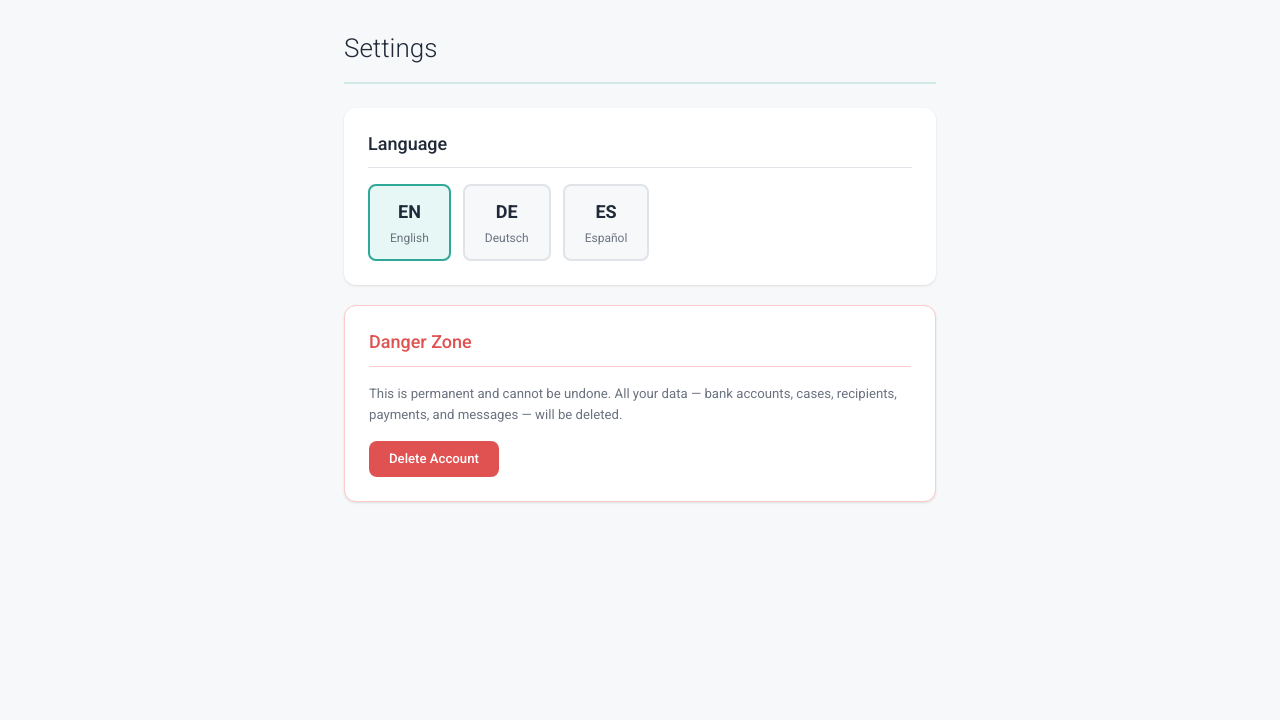
Test: SettingsClient — required elements › closes confirmation dialog when Cancel is clicked
Click the button "Delete Account" at (434, 459), box [369,441,499,477]
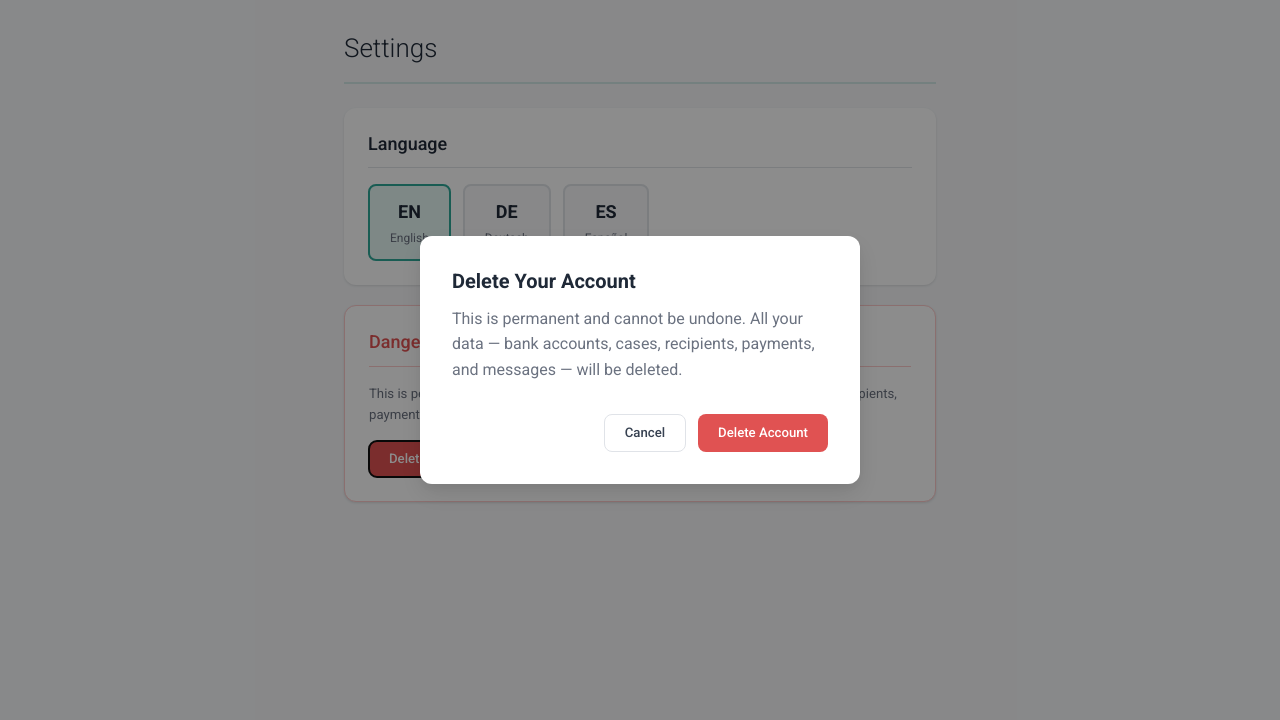
Now the dialog is shown, box [420,236,860,484]
Click the button "Cancel" at (645, 433), box [604,414,686,452]
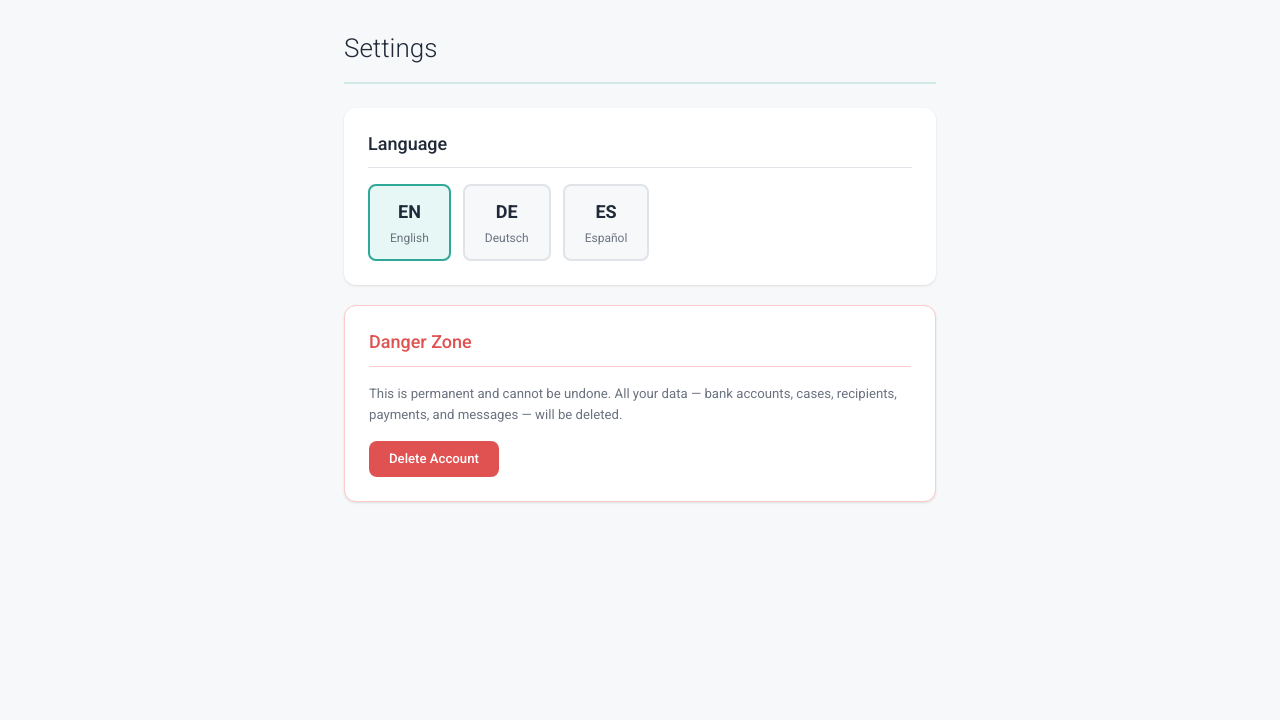
Now the dialog is gone
